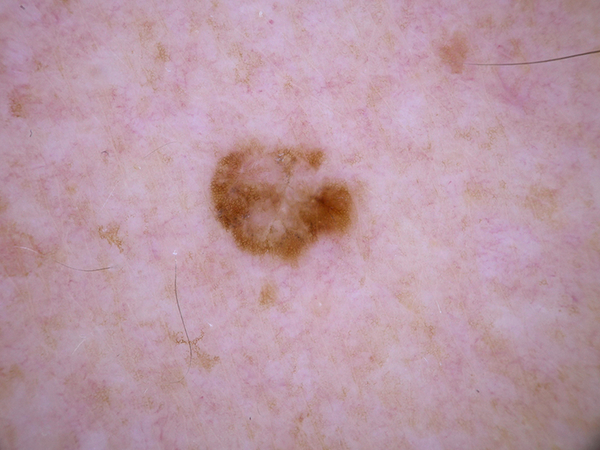Detected Lesion: (211, 136, 362, 266)
